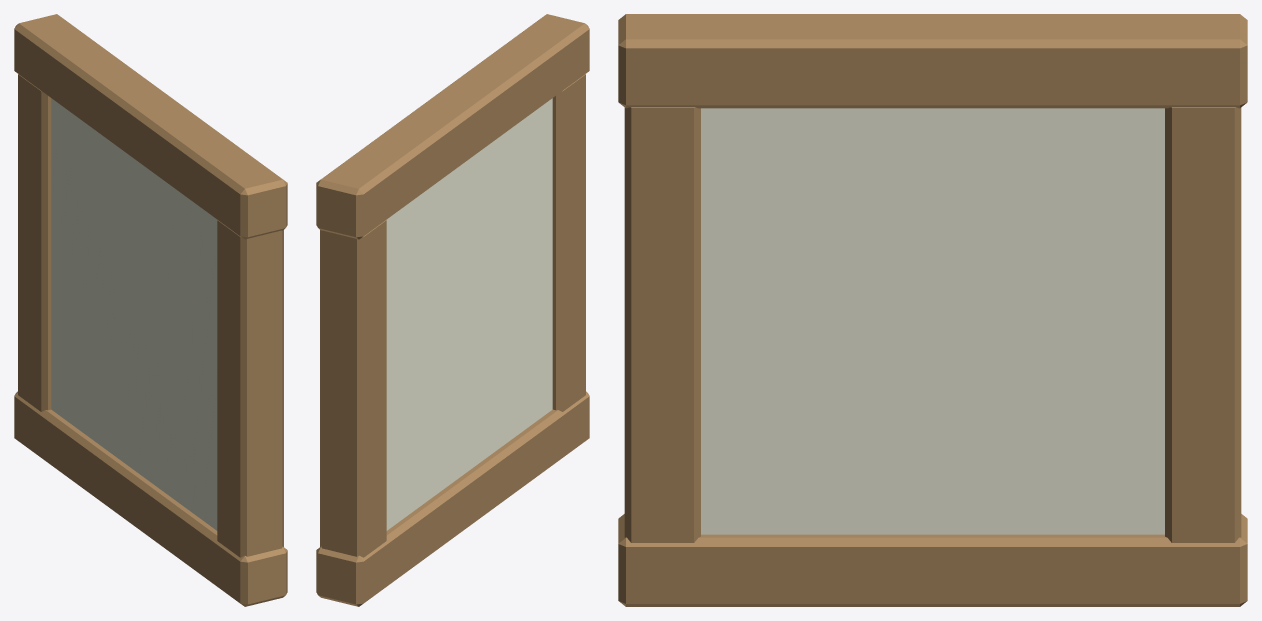
Rendered from BaseWall_4.fbx.
3 renders of one model, left to right at view 1: azimuth 30°, elevation 25°; view 2: azimuth 150°, elevation 25°; view 3: azimuth 270°, elevation 25°, orthographic. The views are drawn at different scales.
Parts seen in each view (by area): view 1: BaseWall.006; view 2: BaseWall.006; view 3: BaseWall.006.
Boxes of the visible parts, left/top/right/bottom form: BaseWall.006: left=14, top=14, right=287, bottom=606; BaseWall.006: left=316, top=14, right=589, bottom=606; BaseWall.006: left=618, top=14, right=1247, bottom=606.
Bounding box in the file's own units: 0.2753 × 2.32 × 2.33.
